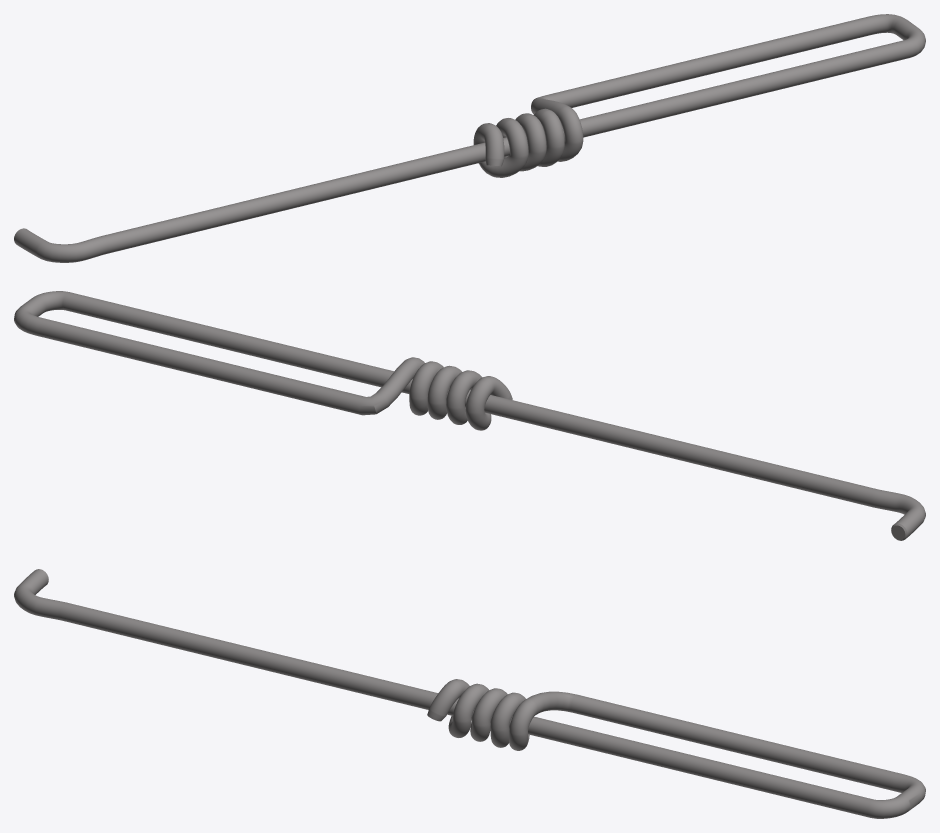
The model's file is Lockpick_klammer_texturized.glb.
3 renders of one model, top to bottom at view 1: azimuth 30°, elevation 25°; view 2: azimuth 150°, elevation 25°; view 3: azimuth 330°, elevation 25°, orthographic.
Visible parts, largest first — view 1: Cylinder.003; view 2: Cylinder.003; view 3: Cylinder.003.
Part boxes in pixels (<box>): Cylinder.003: <box>14,14,925,262</box>; Cylinder.003: <box>14,291,925,540</box>; Cylinder.003: <box>14,569,925,818</box>.
Size of the model in its own units: 1.98 by 0.111 by 0.2034.
1 material, 1 textured.
